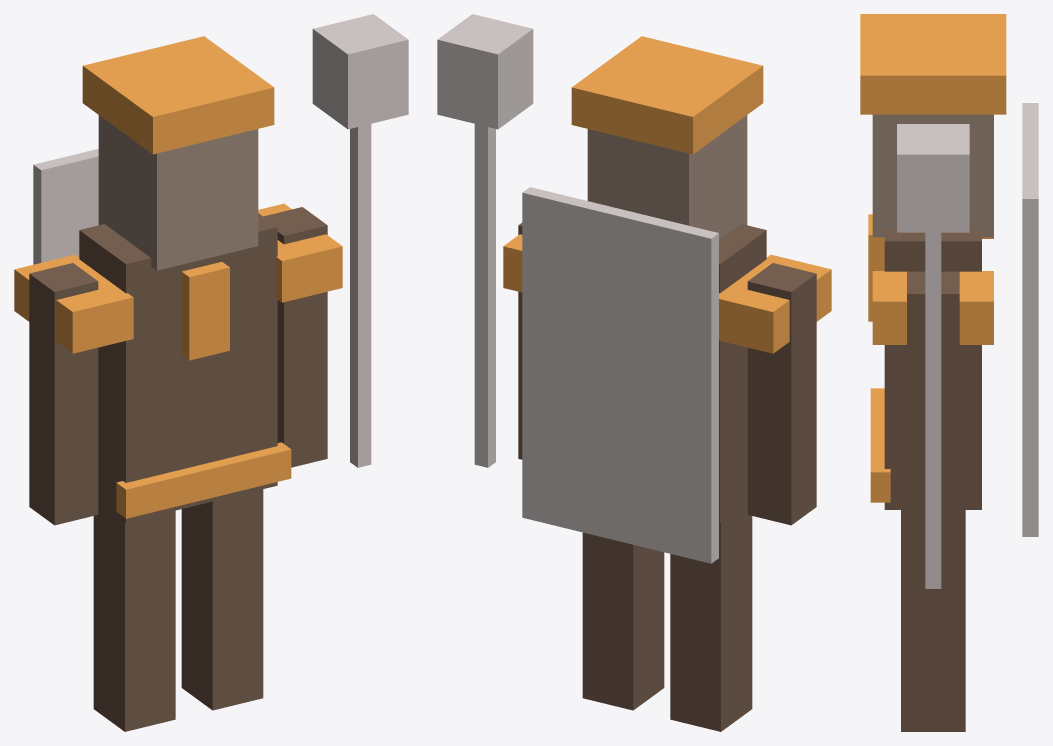
Rendered from 10_selka_frostrelay_navigator_under_lexicon.glb.
3 views of the same model, side by side, from view 1: azimuth 30°, elevation 25°; view 2: azimuth 150°, elevation 25°; view 3: azimuth 270°, elevation 25° (orthographic). The views are drawn at different scales.
Visible parts, largest first — view 1: Selka Frostrelay, Navigator under Lexicon; view 2: Selka Frostrelay, Navigator under Lexicon; view 3: Selka Frostrelay, Navigator under Lexicon.
Boxes of the visible parts, x1,y1,x2,y2 form: Selka Frostrelay, Navigator under Lexicon: (14,14,408,731); Selka Frostrelay, Navigator under Lexicon: (437,14,831,731); Selka Frostrelay, Navigator under Lexicon: (860,14,1038,731).
Bounding box in the file's own units: 0.9955 × 1.71 × 0.4232.
